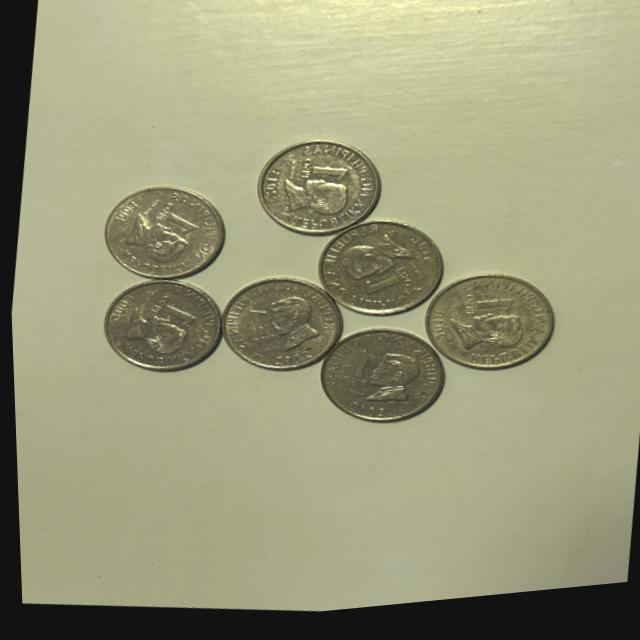1_Old_Front: (353, 265, 418, 312), (141, 292, 206, 337), (148, 199, 205, 244), (454, 294, 521, 332), (330, 351, 380, 401), (240, 305, 280, 357), (292, 159, 348, 193)
